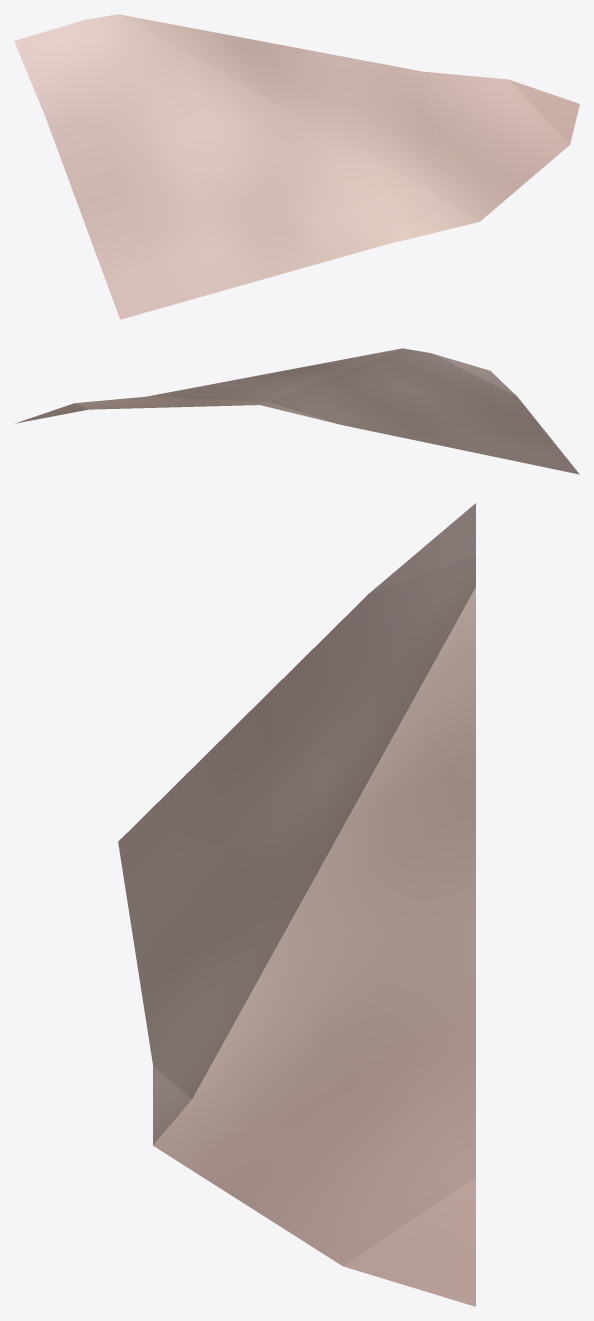
The picture shows the model from 3 angles, top to bottom: view 1: azimuth 30°, elevation 25°; view 2: azimuth 150°, elevation 25°; view 3: azimuth 270°, elevation 25°; orthographic projection. The views are drawn at different scales.
Size of the model in its own units: 0.052 by 0.018 by 0.0169.
Materials: 1 (1 with a texture image).
